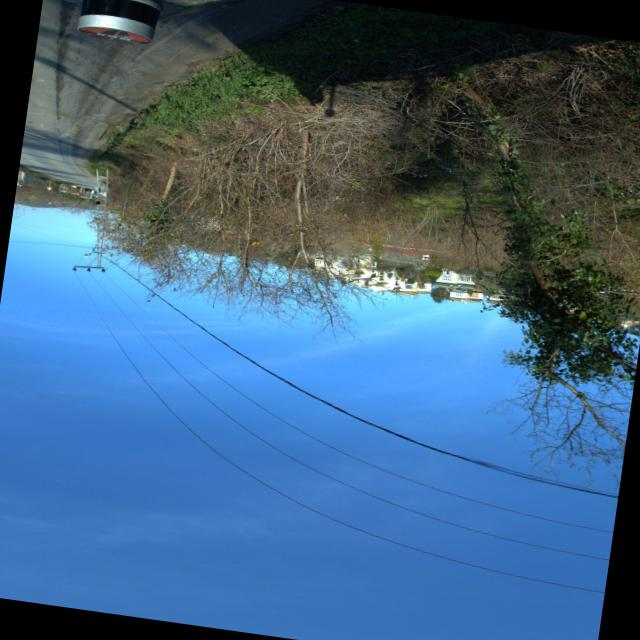Utility Pole Information Plate: (96, 200, 99, 203)
